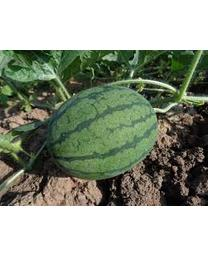watermelon: (48, 85, 158, 181)
